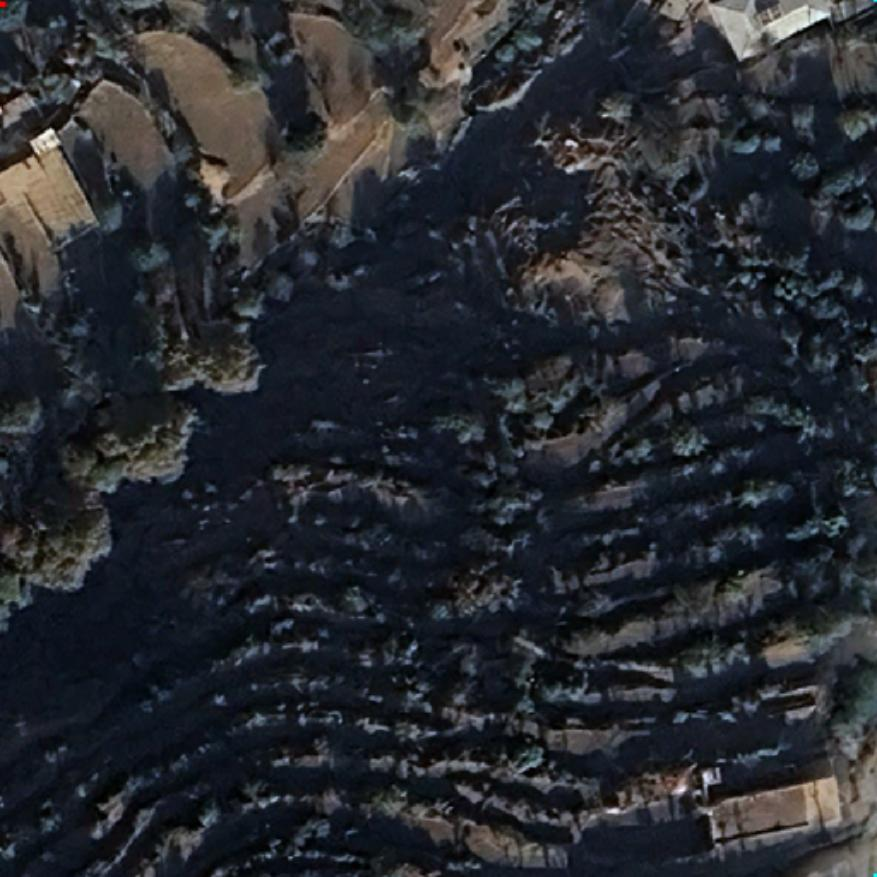Solarpanel: (748, 2, 785, 30)
